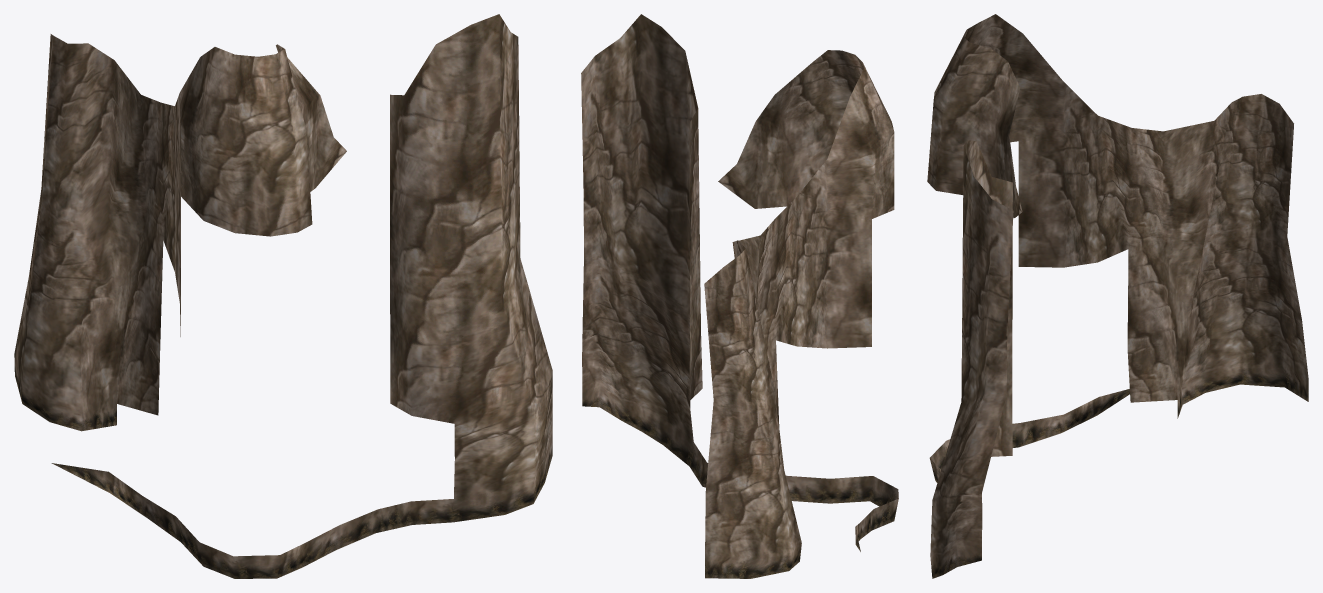
File: OVERHILL_A_01_WALL_202.fbx
3 renders of one model, left to right at view 1: azimuth 30°, elevation 25°; view 2: azimuth 150°, elevation 25°; view 3: azimuth 270°, elevation 25°, orthographic. The views are drawn at different scales.
Visible parts, largest first — view 1: OVERHILL_A_01_WALL_202; view 2: OVERHILL_A_01_WALL_202; view 3: OVERHILL_A_01_WALL_202.
Boxes of the visible parts, left/top/right/bottom form: OVERHILL_A_01_WALL_202: left=14, top=14, right=552, bottom=578; OVERHILL_A_01_WALL_202: left=581, top=14, right=898, bottom=578; OVERHILL_A_01_WALL_202: left=927, top=14, right=1308, bottom=578.
Size of the model in its own units: 122004 by 150486 by 113389.
2 materials, 2 textured.
